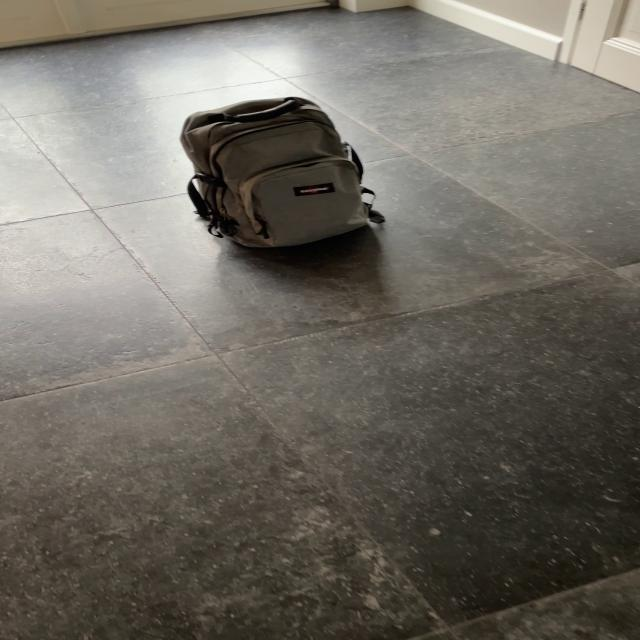backpack: (171, 90, 380, 254)
